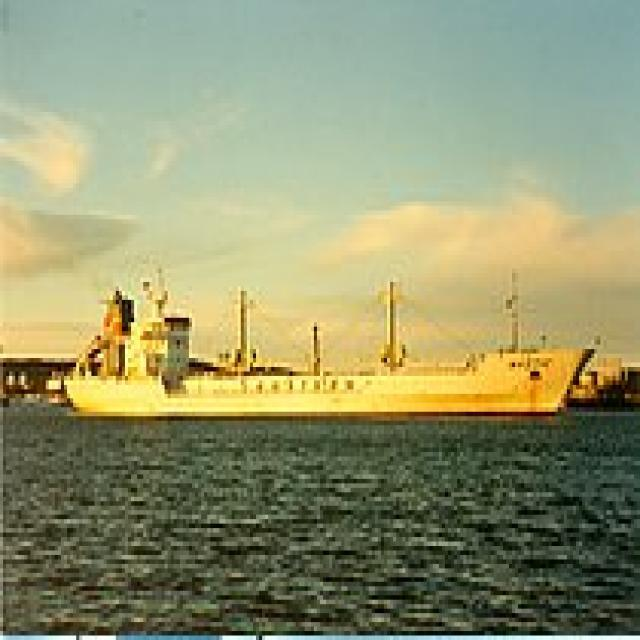Ship: (53, 248, 605, 431)
